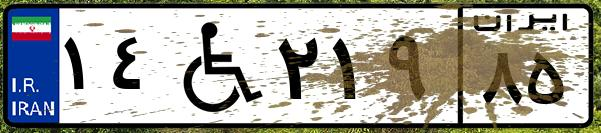1: (330, 28, 385, 110), (57, 26, 110, 100)
2: (270, 28, 330, 110)
4: (110, 28, 158, 98)
5: (525, 38, 570, 115)
8: (475, 38, 525, 113)
9: (385, 28, 445, 110)
ژ (معلولین و جانبازان): (158, 12, 270, 120)
